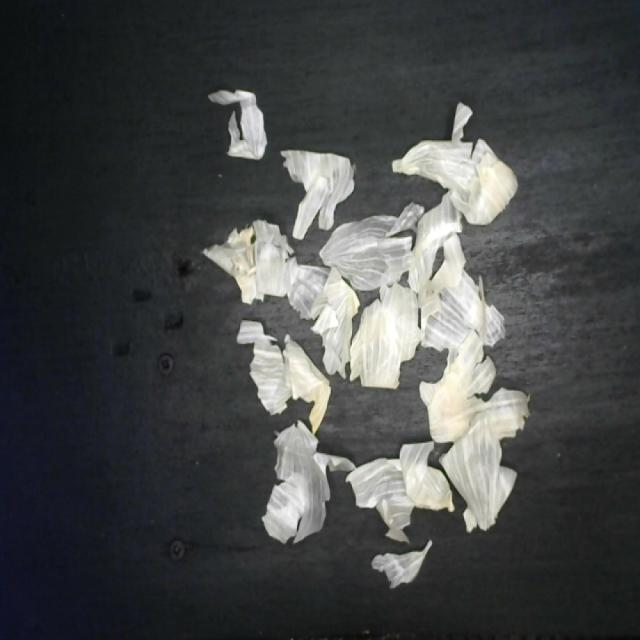biodegradable: (205, 80, 536, 589)
